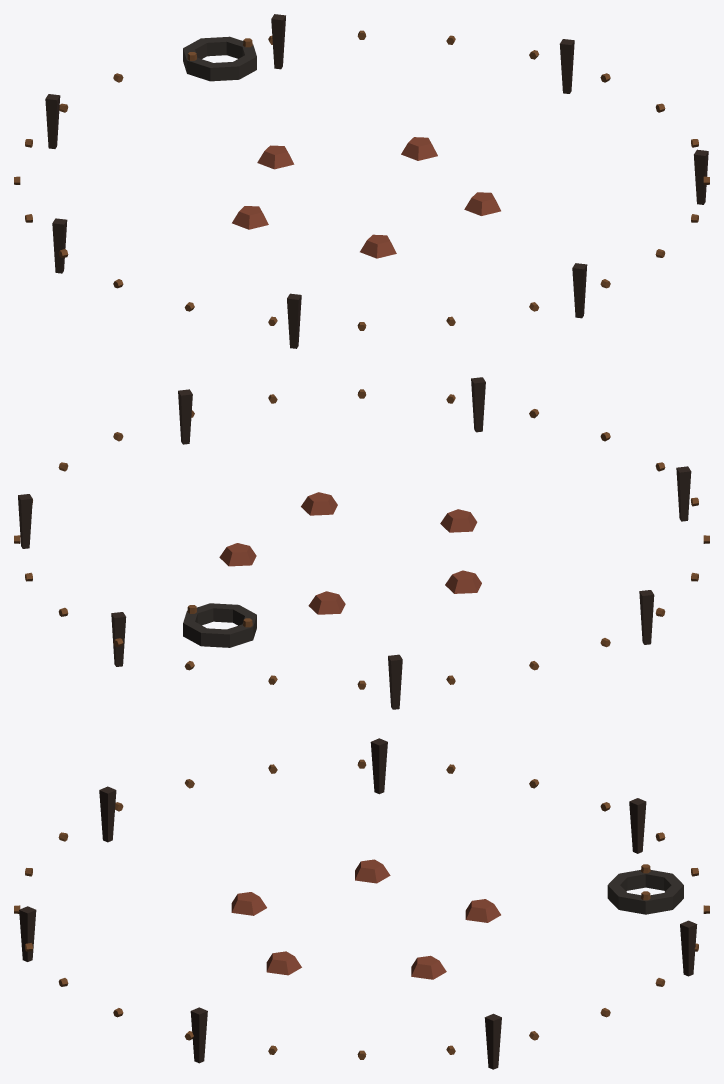
File: geyser_vent_detail2.glb
3 renders of one model, top to bottom at view 1: azimuth 30°, elevation 25°; view 2: azimuth 150°, elevation 25°; view 3: azimuth 270°, elevation 25°, orthographic.
Parts seen in each view (by area): view 1: geyser_vent_detail2.001; view 2: geyser_vent_detail2.001; view 3: geyser_vent_detail2.001.
Boxes of the visible parts, x1,y1,x2,y2 form: geyser_vent_detail2.001: (14, 14, 709, 348); geyser_vent_detail2.001: (14, 377, 709, 709); geyser_vent_detail2.001: (14, 738, 709, 1069).
Bounding box in the file's own units: 5.64 × 0.5 × 5.64.
